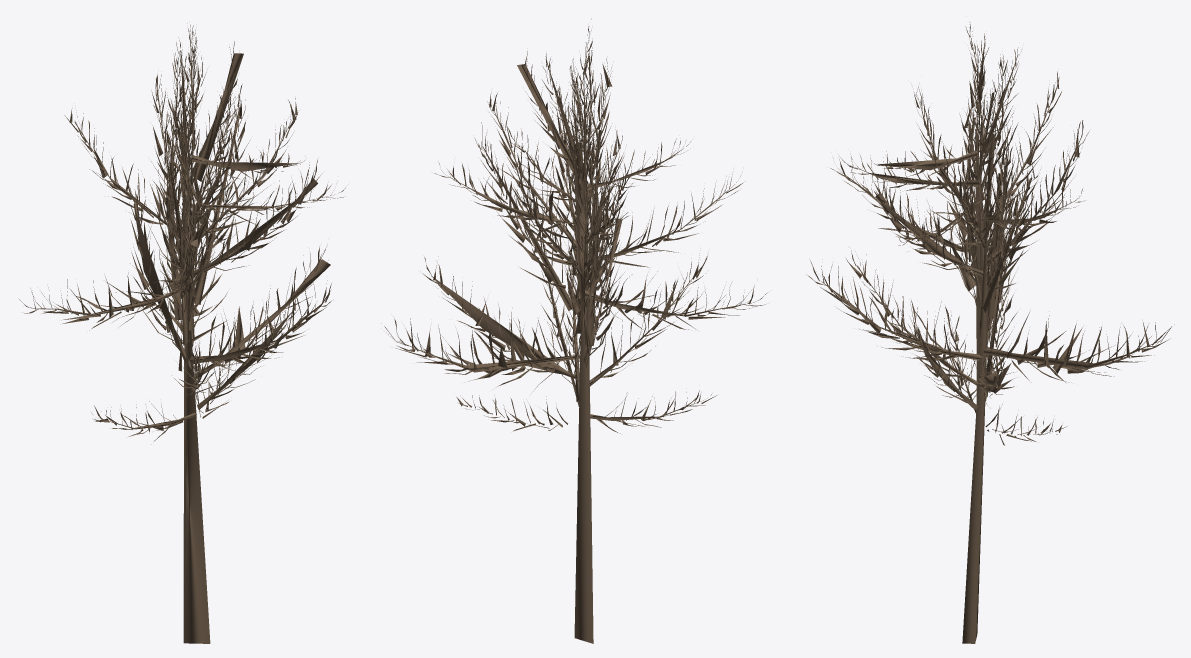
Rendered from Spruce_02_LOD1.fbx.
3 views of the same model, side by side, from view 1: azimuth 30°, elevation 25°; view 2: azimuth 150°, elevation 25°; view 3: azimuth 270°, elevation 25° (orthographic).
Parts seen in each view (by area): view 1: Spruce; view 2: Spruce; view 3: Spruce.
Boxes of the visible parts, <box> form: Spruce: <box>19,23,345,643</box>; Spruce: <box>381,18,766,643</box>; Spruce: <box>806,22,1174,643</box>.
Bounding box in the file's own units: 1072 × 1901 × 1037.
